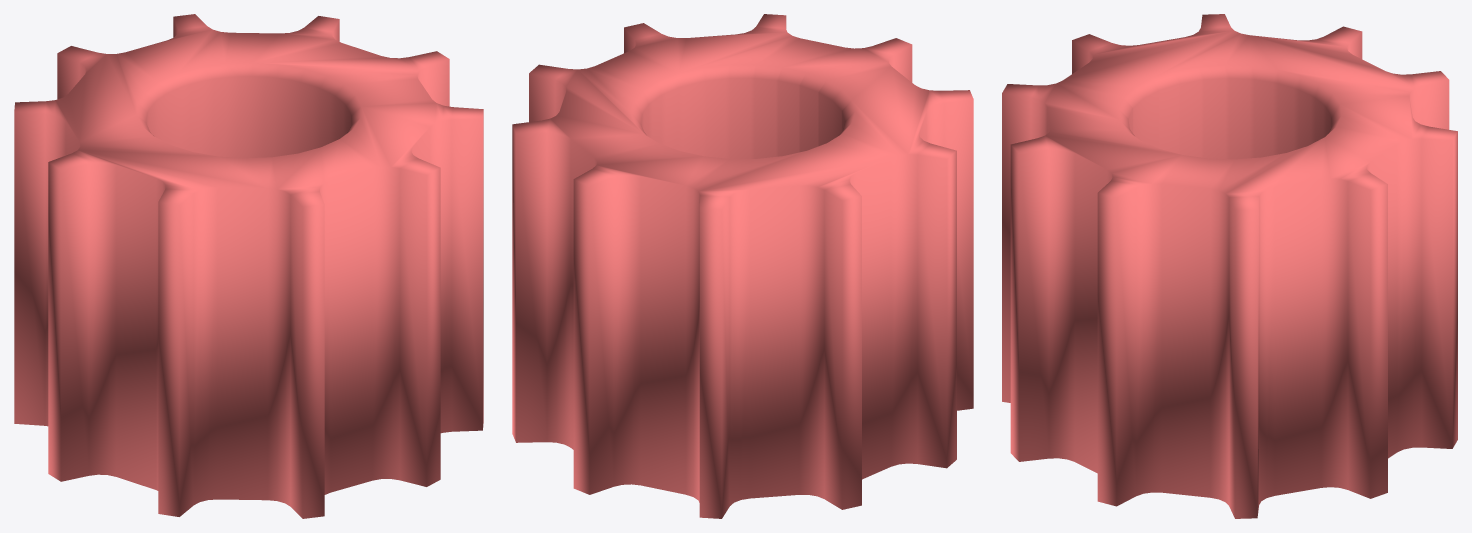
File: solo12_hip_fe_fr_5.obj
3 renders of one model, left to right at view 1: azimuth 30°, elevation 25°; view 2: azimuth 150°, elevation 25°; view 3: azimuth 270°, elevation 25°, orthographic.
Bounding box in the file's own units: 0.00914 × 0.0067 × 0.00897.
